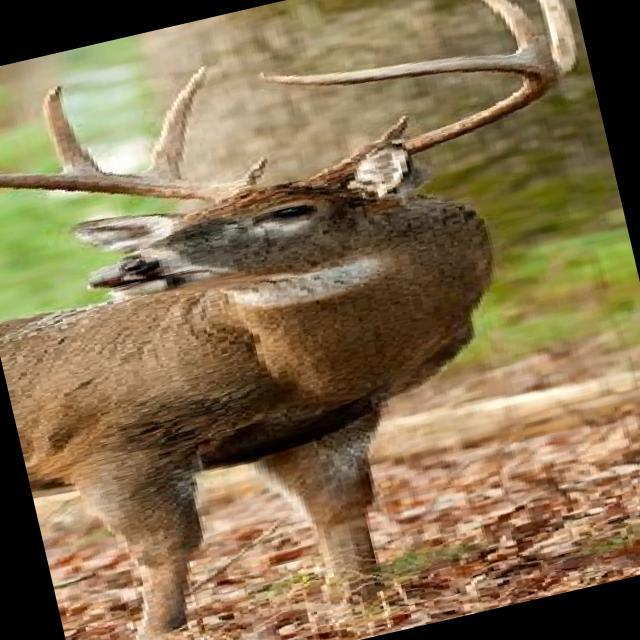L-G1: (365, 112, 412, 146)
L-G2: (534, 0, 580, 79)
L-G3: (476, 0, 553, 59)
R-F: (0, 172, 254, 204)
R-G1: (227, 154, 268, 189)
R-G2: (135, 64, 209, 179)
R-G3: (41, 83, 106, 173)
